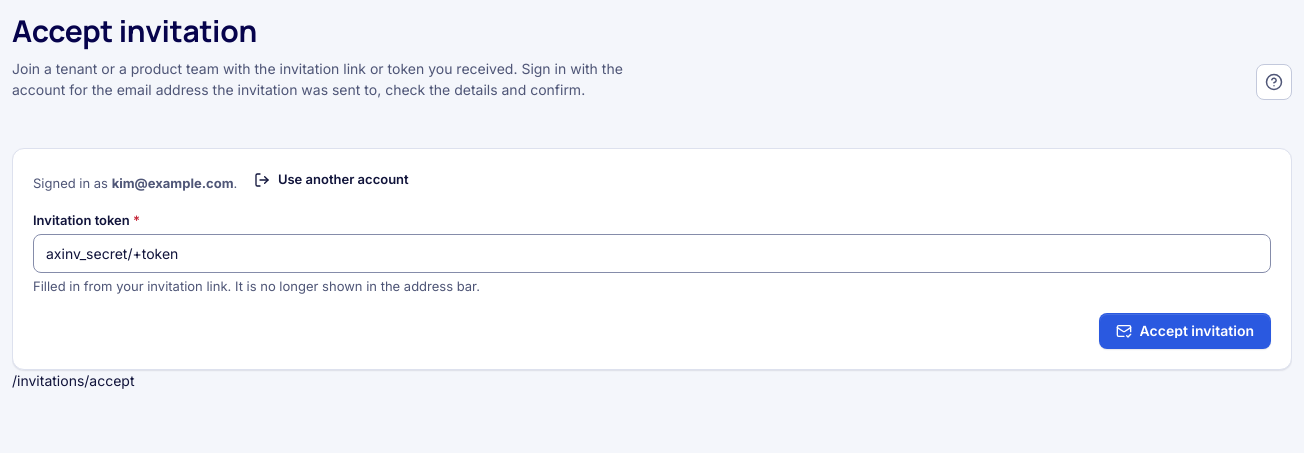
Test: invitation links › accepts after confirmation and names the tenant
The width and height of the screenshot is (1304, 453).
Click the button "Accept invitation" at (1185, 330), box left=1099, top=312, right=1271, bottom=348
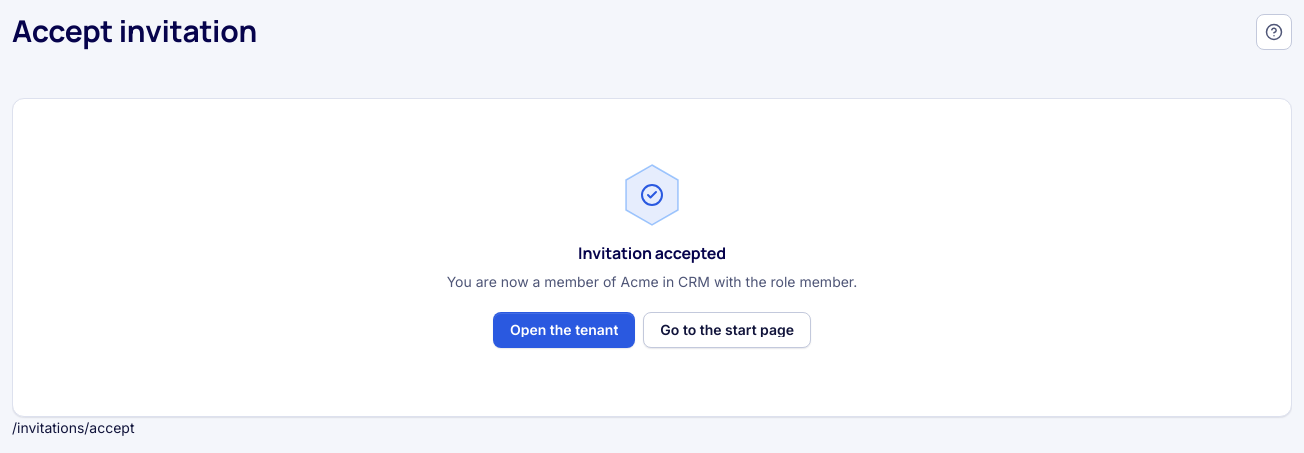
Expected: the heading "Invitation accepted" is shown, left=578, top=242, right=726, bottom=262
Expected: the text "You are now a member of Acme in CRM with the role member." is shown, left=447, top=270, right=857, bottom=292
